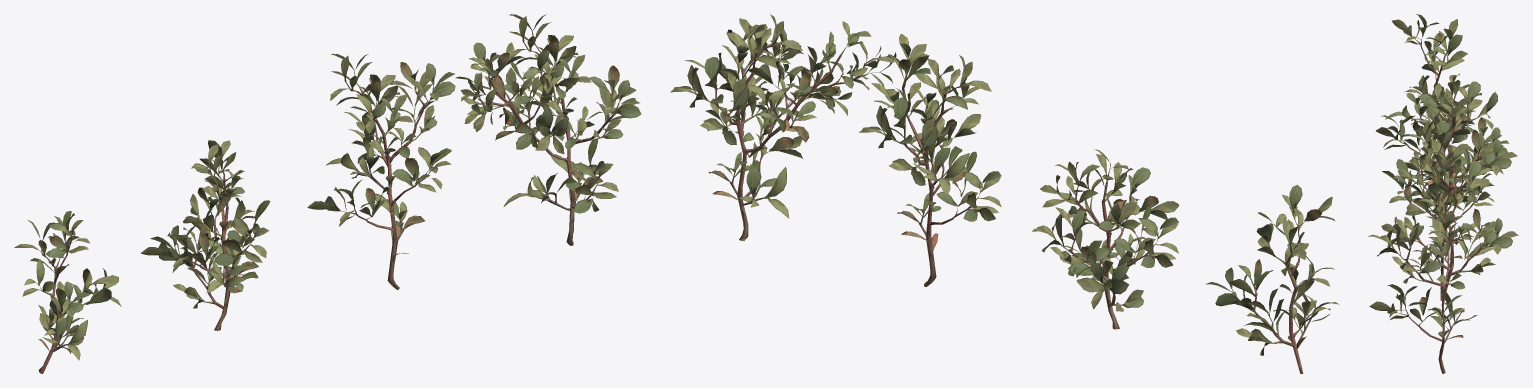
Rendered from shrub_04.glb.
3 renders of one model, left to right at view 1: azimuth 30°, elevation 25°; view 2: azimuth 150°, elevation 25°; view 3: azimuth 270°, elevation 25°, orthographic. The views are drawn at different scales.
Parts seen in each view (by area): view 1: shrub_04; view 2: shrub_04; view 3: shrub_04.
Part boxes in pixels (left/top/right/bottom): shrub_04: left=14, top=14, right=641, bottom=373; shrub_04: left=670, top=14, right=1339, bottom=373; shrub_04: left=1368, top=14, right=1518, bottom=373.
Bounding box in the file's own units: 0.5837 × 0.2192 × 0.1461.
Materials: 1 (1 with a texture image).
